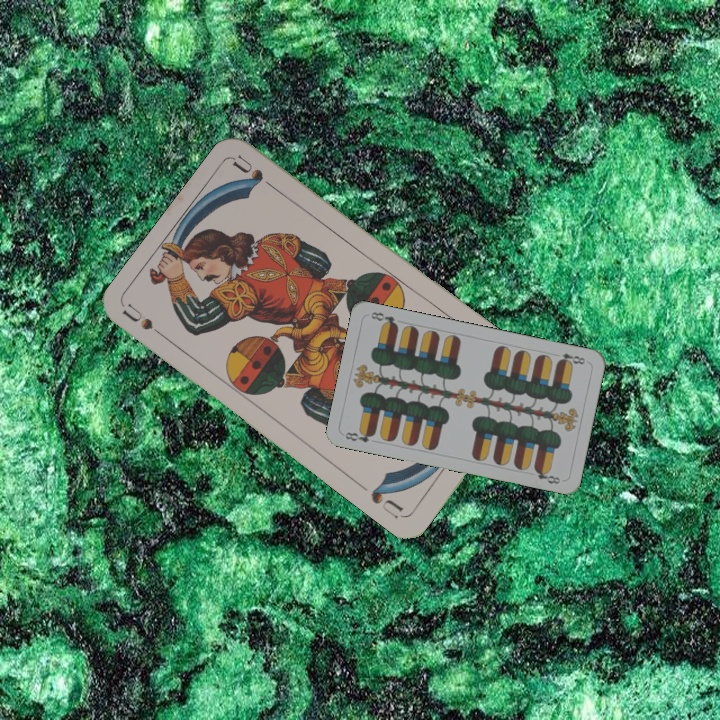E8: (341, 426, 378, 445), (554, 349, 588, 368)
SU: (119, 300, 173, 344)
